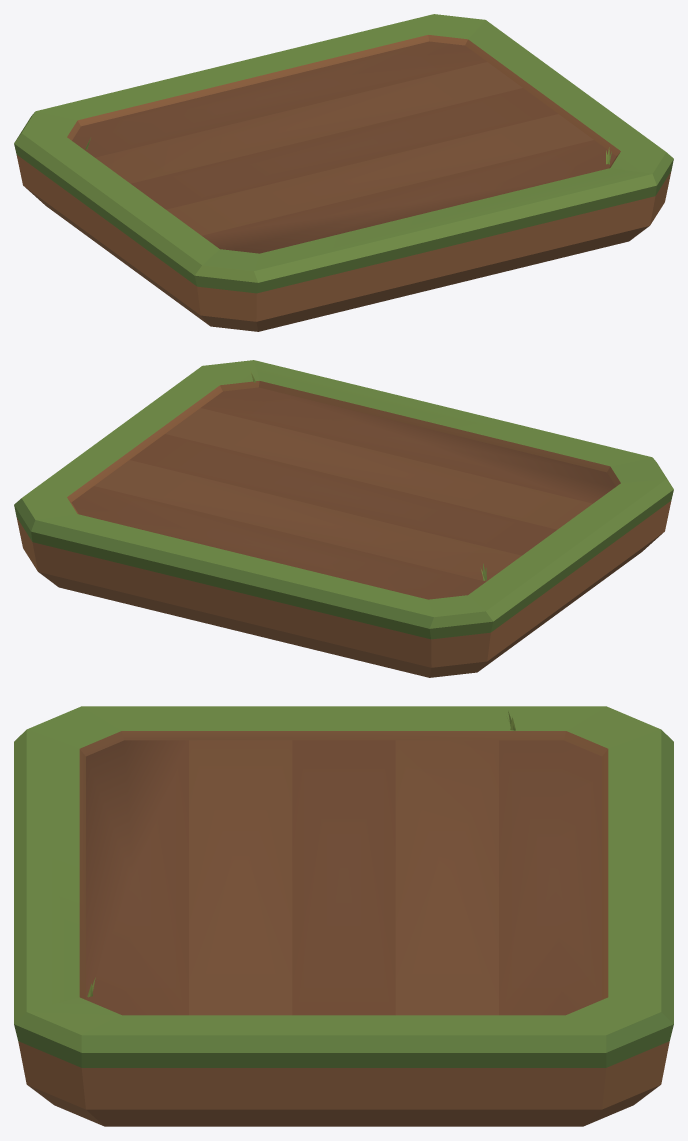
File: Farm_platform.glb
The picture shows the model from 3 angles, top to bottom: view 1: azimuth 30°, elevation 25°; view 2: azimuth 150°, elevation 25°; view 3: azimuth 270°, elevation 25°; orthographic projection. The views are drawn at different scales.
Parts seen in each view (by area): view 1: Farm_platform; view 2: Farm_platform; view 3: Farm_platform.
Boxes of the visible parts, x1,y1,x2,y2 form: Farm_platform: (14, 14, 673, 331); Farm_platform: (14, 360, 673, 677); Farm_platform: (14, 706, 673, 1126).
Bounding box in the file's own units: 1.9 × 0.327 × 1.56.
